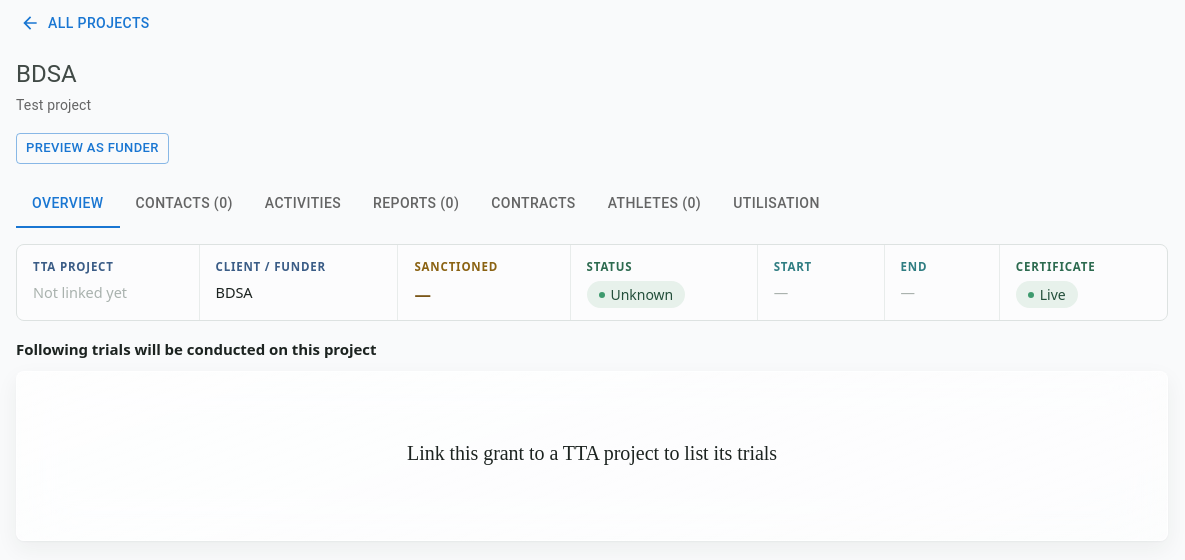
Test case: a failed activity list says so in its tab, never "No activities yet"
The width and height of the screenshot is (1185, 560).
Expected: the heading "BDSA" is shown, [16,60,77,88]
// The tab label carries no count it does not have.
Click the tab "Activities": (303, 204) [249,180,357,228]
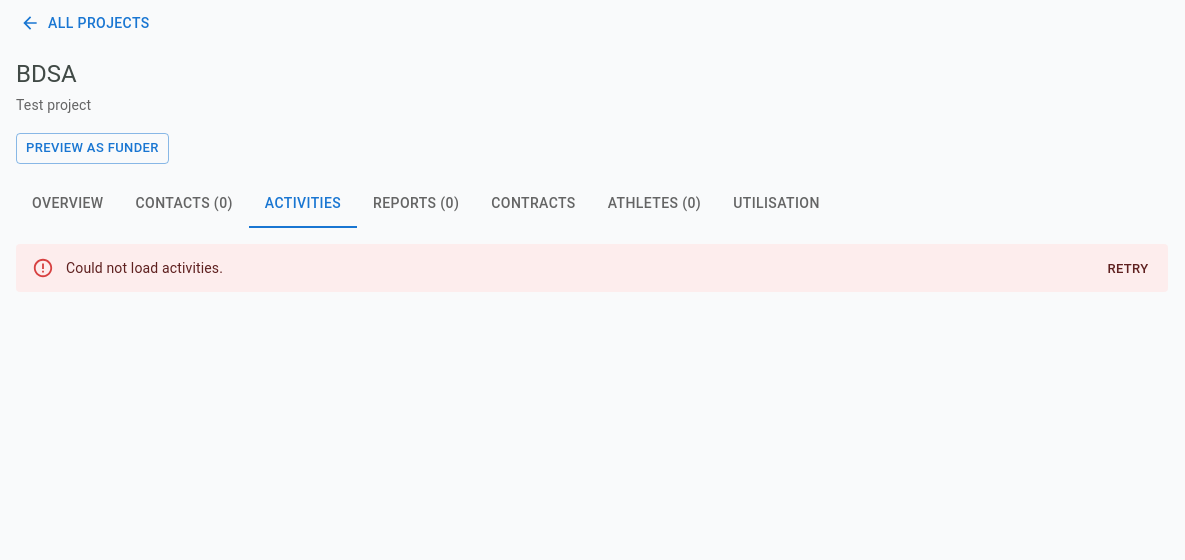
Expected: the text "Could not load activities." is shown, [66,260,223,276]
Click the button "Retry": (1128, 270) [1096,254,1160,285]
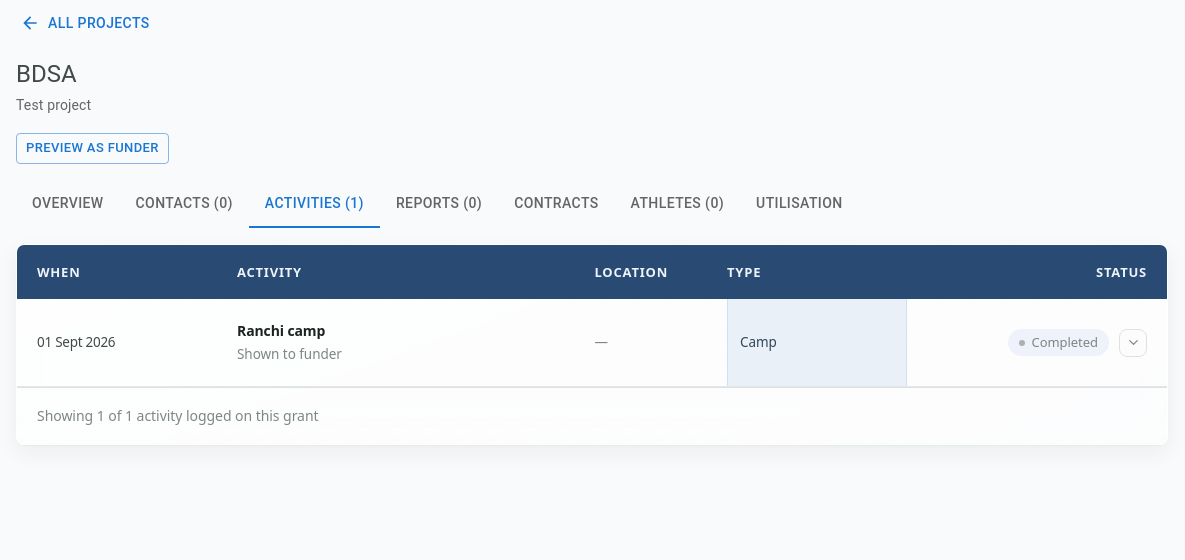
Expected: the text "Ranchi camp" is shown, [237,321,325,340]
Expected: the text "Could not load activities." is gone
